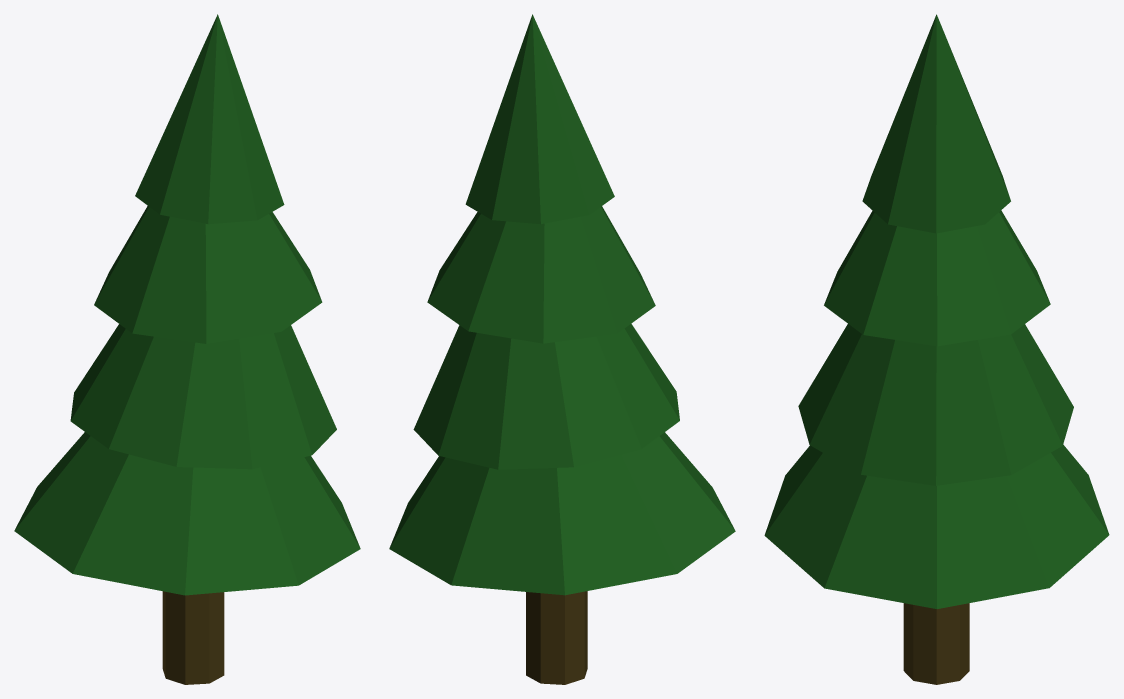
Rendered from tree3.fbx.
3 renders of one model, left to right at view 1: azimuth 30°, elevation 25°; view 2: azimuth 150°, elevation 25°; view 3: azimuth 270°, elevation 25°, orthographic. The views are drawn at different scales.
Parts seen in each view (by area): view 1: tree_3, tronc_1_2_5; view 2: tree_3, tronc_1_2_5; view 3: tree_3, tronc_1_2_5.
Boxes of the visible parts, <box> form: tree_3: <box>14,14,360,595</box>; tronc_1_2_5: <box>162,591,224,684</box>; tree_3: <box>389,14,735,595</box>; tronc_1_2_5: <box>526,591,587,684</box>; tree_3: <box>764,14,1109,608</box>; tronc_1_2_5: <box>903,603,969,684</box>.
Bounding box in the file's own units: 7.53 × 15.71 × 7.34.
